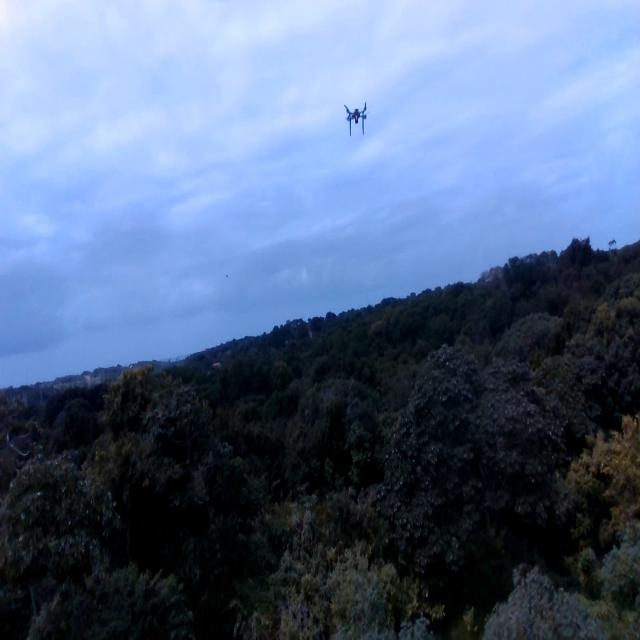-uav-: (341, 81, 376, 152)
